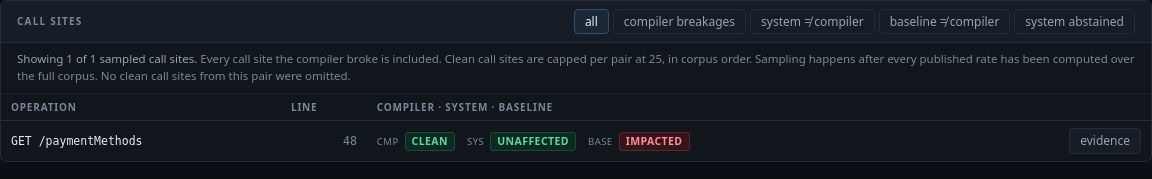
Test case: CallsiteTable filters › explains an empty filter result as a filter result, not as missing data
Click the button "compiler breakages".
click(679, 22)  # box [613, 9, 746, 34]
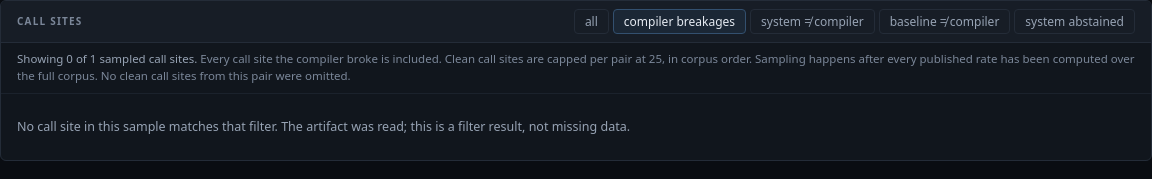
Now the message shows "this is a filter result, not missing data", box [17, 118, 630, 135]
